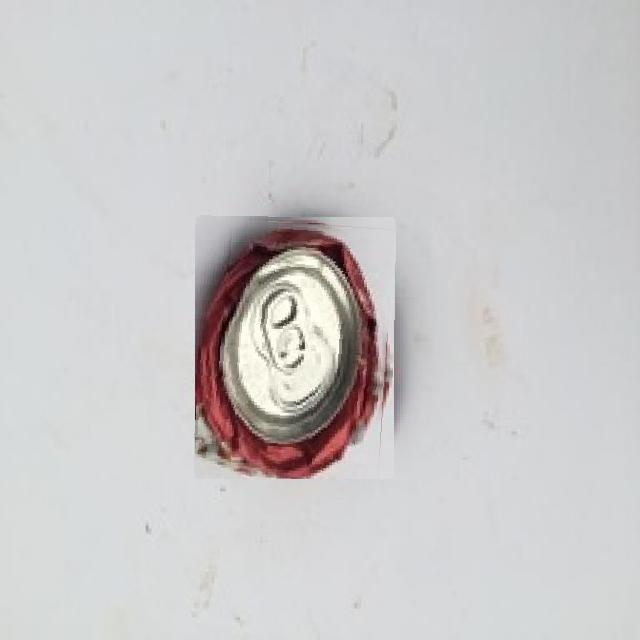recyclable: (195, 216, 395, 479)
